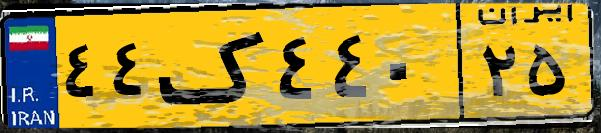0: (385, 28, 445, 110)
2: (475, 38, 525, 113)
4: (270, 28, 330, 110), (330, 28, 385, 110), (57, 26, 110, 100), (110, 28, 158, 98)
5: (525, 38, 570, 115)
ک: (158, 12, 270, 120)
